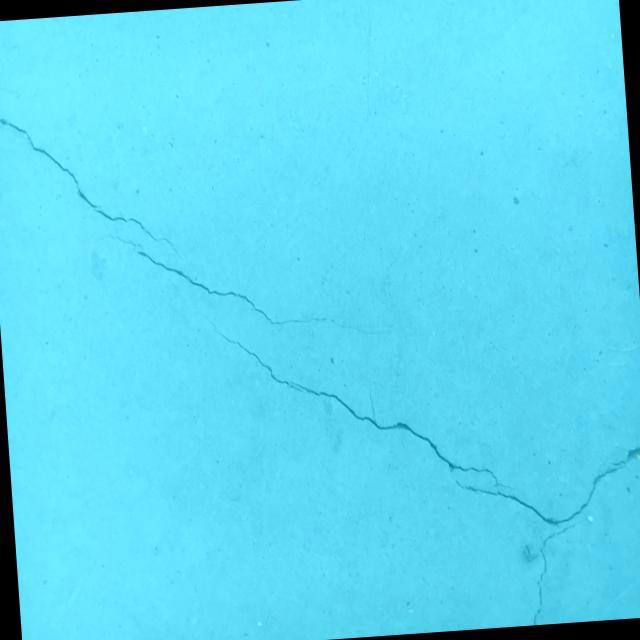crack: (197, 281, 640, 640), (117, 218, 372, 352), (0, 105, 183, 273)
